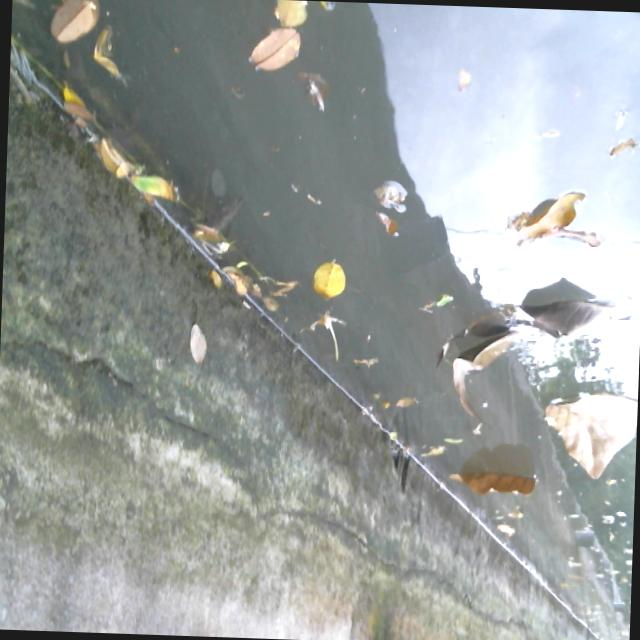Big-leaf: (437, 281, 640, 431), (498, 163, 609, 260), (543, 378, 638, 489), (444, 463, 538, 504)
Small-leaf: (236, 28, 309, 76), (33, 0, 99, 49), (306, 245, 356, 309), (82, 13, 127, 82), (49, 68, 97, 132), (90, 128, 134, 184), (359, 163, 410, 211), (129, 164, 178, 203), (403, 274, 452, 309), (372, 385, 431, 414), (257, 0, 325, 24), (596, 132, 640, 163), (407, 442, 457, 462), (488, 517, 519, 549), (374, 213, 401, 240)
